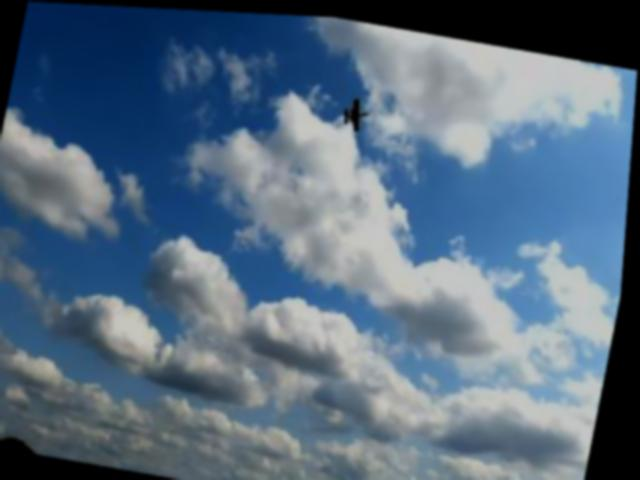uav: (338, 88, 380, 135)
